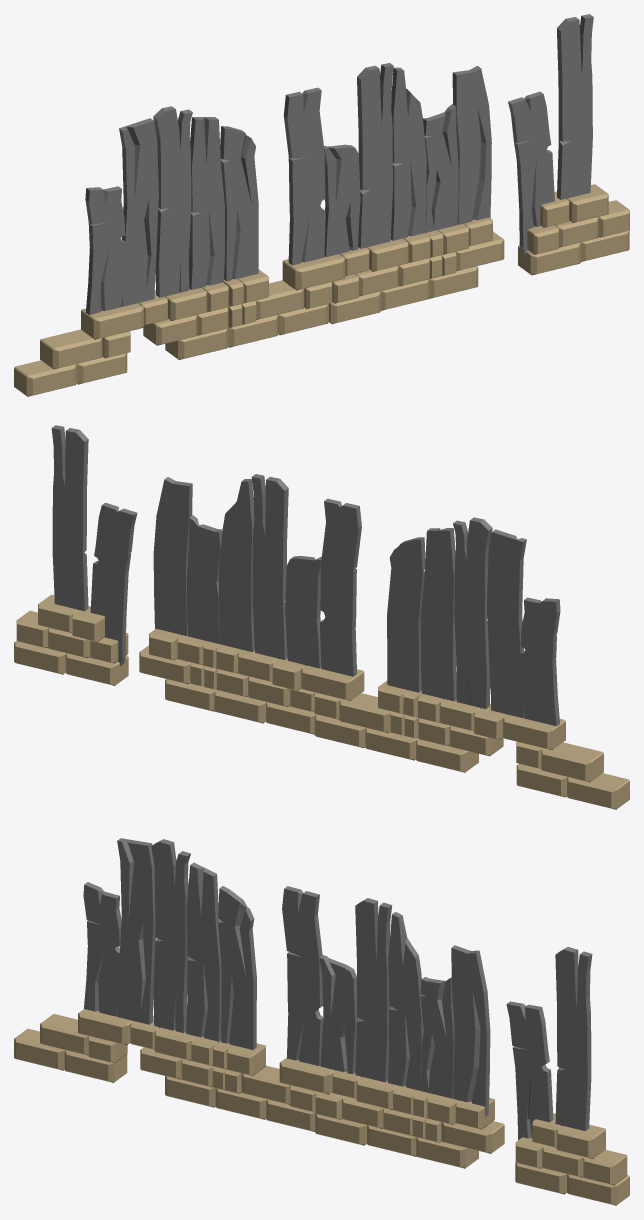
Rendered from prop_wood_wall_4.FBX.
3 views of the same model, one above another, from view 1: azimuth 30°, elevation 25°; view 2: azimuth 150°, elevation 25°; view 3: azimuth 330°, elevation 25° (orthographic).
Visible parts, largest first — view 1: Object001; view 2: Object001; view 3: Object001.
Boxes of the visible parts, bbox=[...] form: Object001: bbox=[14, 14, 629, 396]; Object001: bbox=[14, 425, 629, 809]; Object001: bbox=[14, 838, 629, 1205].
Bounding box in the file's own units: 3 × 1.18 × 0.1774.
